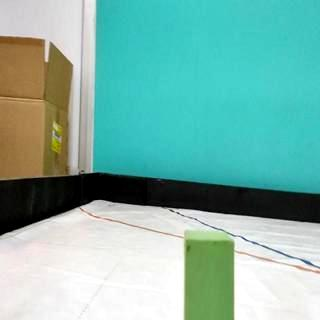greenbox: (182, 227, 235, 320)
